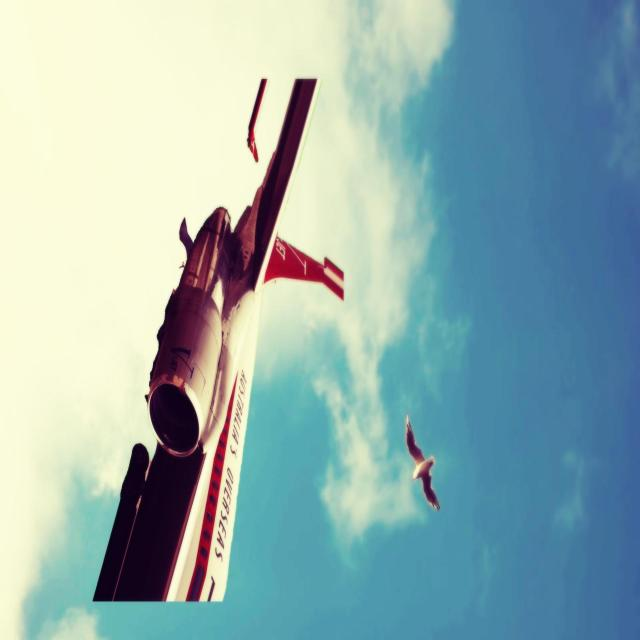airplane: (92, 75, 345, 602)
